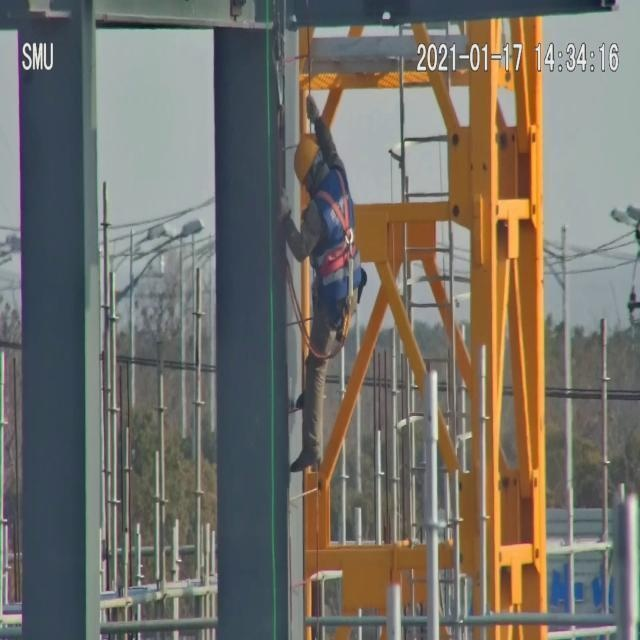Arnes_seguridad: (306, 159, 360, 296)
